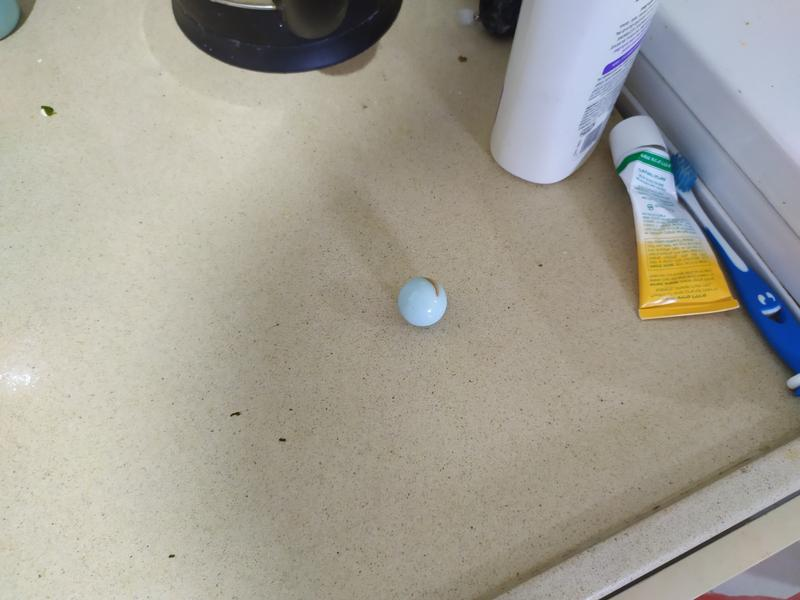Warning: (395, 274, 450, 329)
